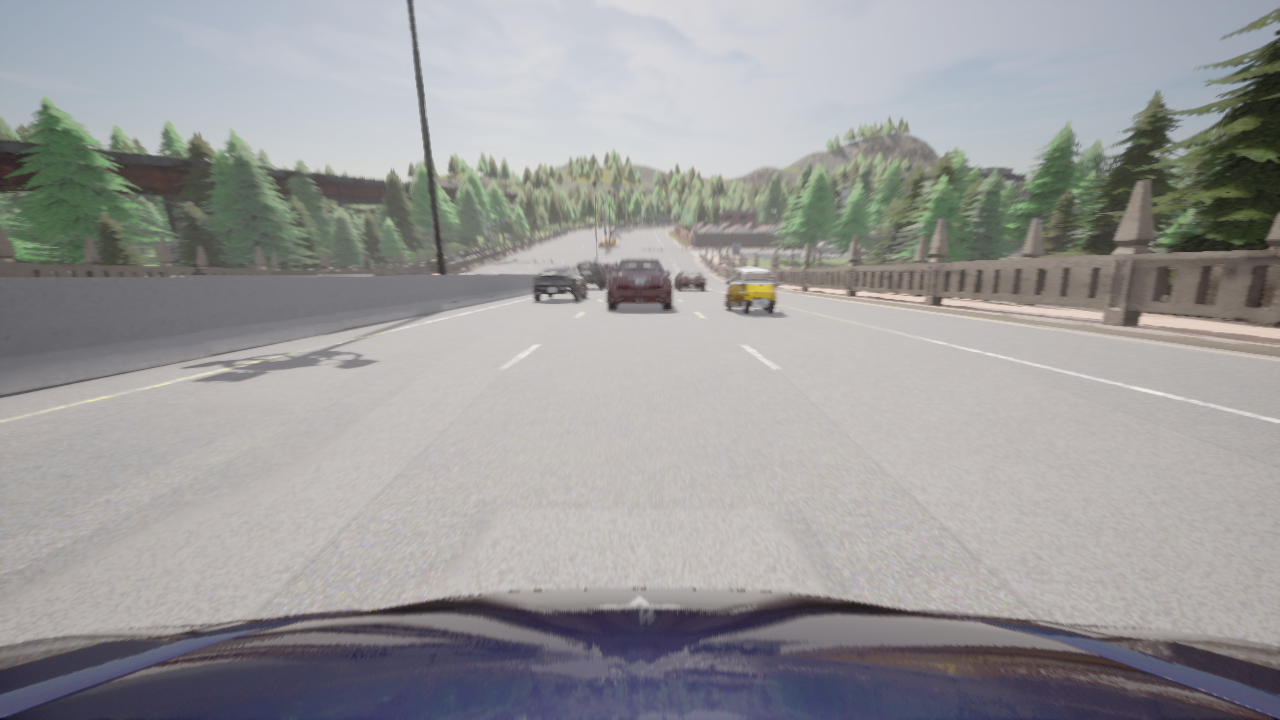cyclist: (0, 588, 1279, 719), (607, 258, 671, 309), (726, 267, 775, 313), (534, 265, 587, 301), (576, 261, 606, 288), (675, 272, 705, 289), (602, 260, 618, 275)
